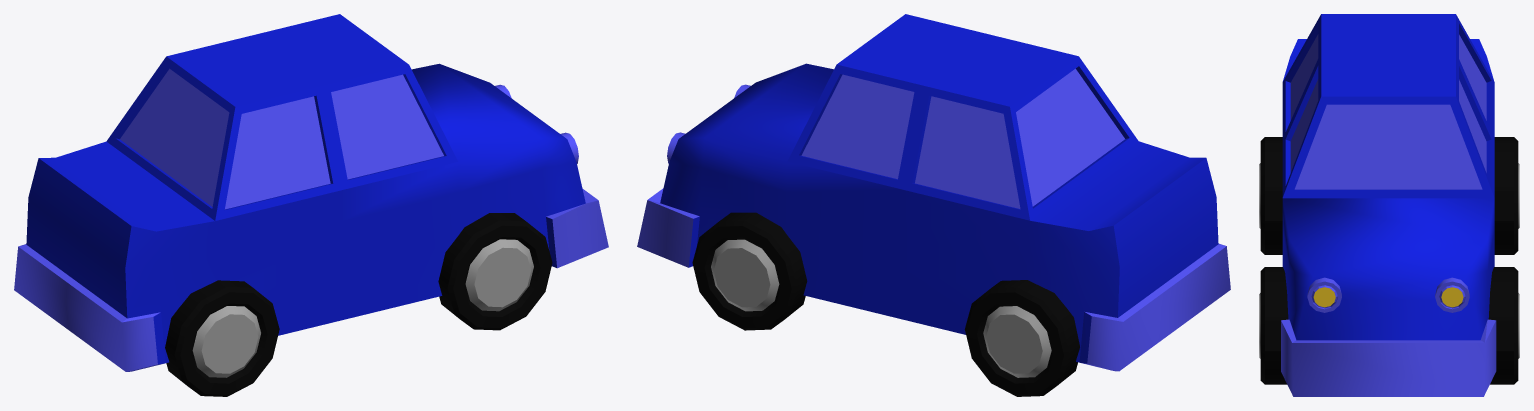
The model's file is Car.FBX.
The picture shows the model from 3 angles, left to right: view 1: azimuth 30°, elevation 25°; view 2: azimuth 150°, elevation 25°; view 3: azimuth 270°, elevation 25°; orthographic projection. The views are drawn at different scales.
Visible parts, largest first — view 1: Box001; view 2: Box001; view 3: Box001.
Part boxes in pixels (x1,y1,x2,y2): Box001: (14, 14, 608, 396); Box001: (637, 14, 1230, 396); Box001: (1259, 14, 1519, 396).
Bounding box in the file's own units: 231 × 117 × 109.
